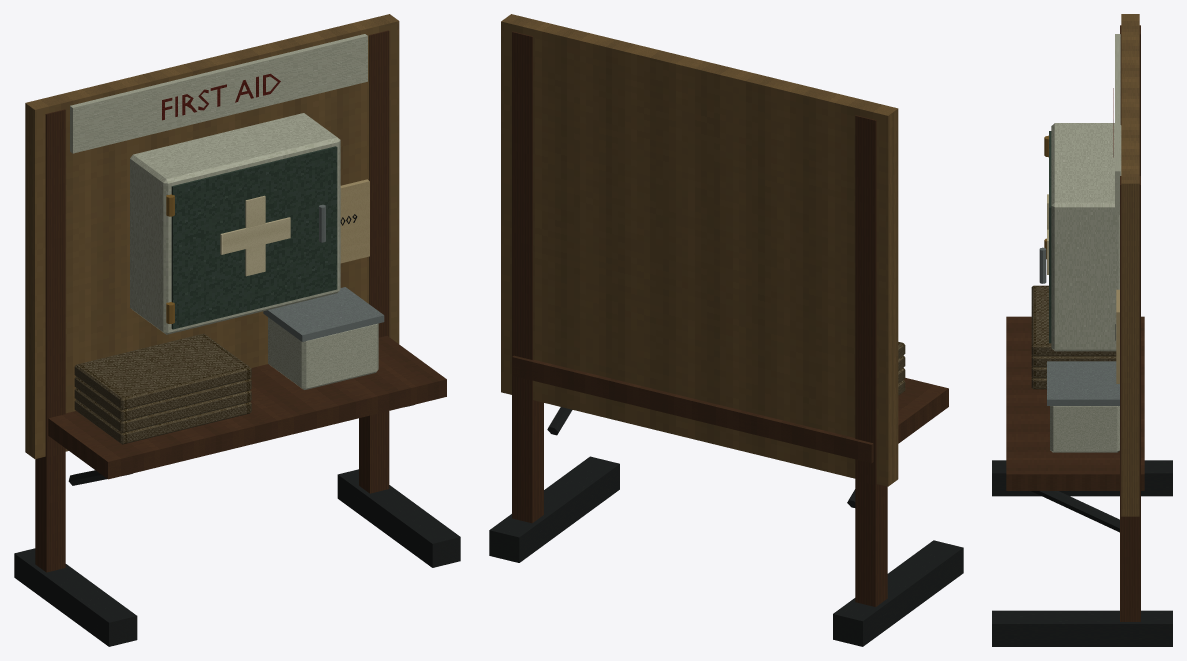
File: level_work_safety_station.glb
3 views of the same model, side by side, from view 1: azimuth 30°, elevation 25°; view 2: azimuth 150°, elevation 25°; view 3: azimuth 270°, elevation 25° (orthographic). The views are drawn at different scales.
Parts seen in each view (by area): view 1: level_work_safety_station; view 2: level_work_safety_station; view 3: level_work_safety_station.
Part boxes in pixels (left/top/right/bottom): level_work_safety_station: left=14, top=14, right=460, bottom=646; level_work_safety_station: left=489, top=14, right=963, bottom=646; level_work_safety_station: left=992, top=14, right=1172, bottom=646.
Size of the model in its own units: 1.42 by 1.82 by 0.64.
12 materials, 12 textured.
